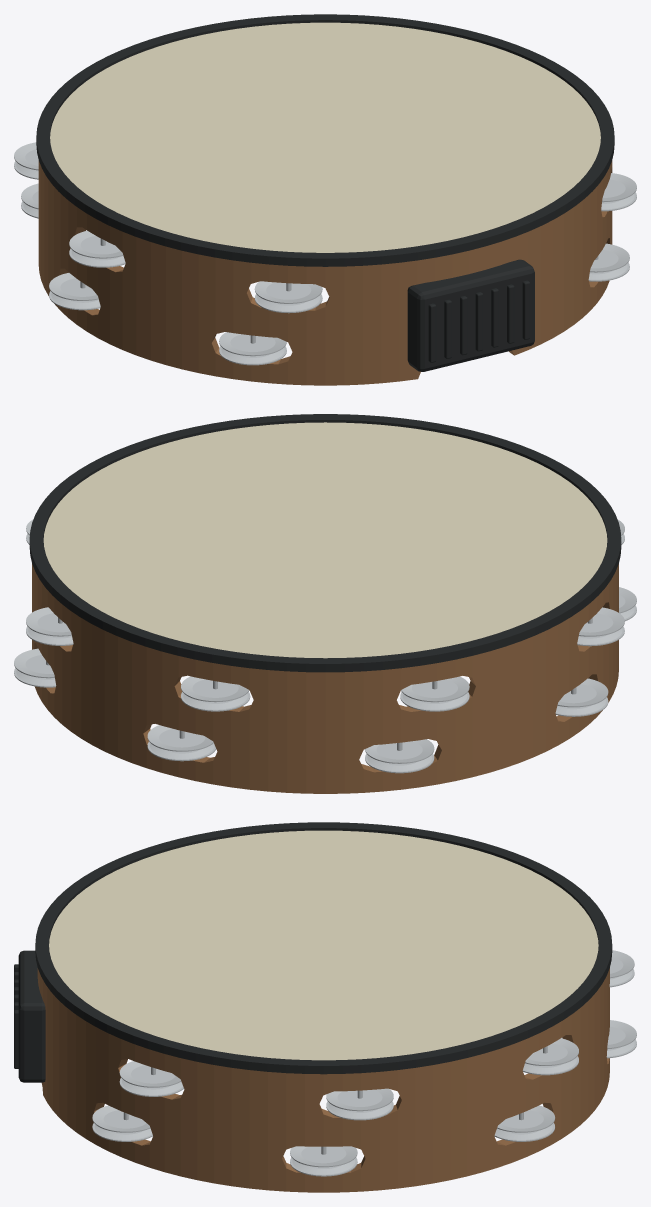
The model's file is full.glb.
3 renders of one model, top to bottom at view 1: azimuth 30°, elevation 25°; view 2: azimuth 150°, elevation 25°; view 3: azimuth 270°, elevation 25°, orthographic. The views are drawn at different scales.
Parts seen in each view (by area): view 1: Cream taut head, Wooden slotted circular frame, Narrow dark upper binding, Rounded grip pad, Jingle 1 7 1, Jingle 0 7 1, Jingle 1 6 1, Jingle 0 6 1, Jingle 0 1 1, Jingle 1 1 1, Jingle 0 7 -1, Jingle 1 7 -1 (+3 smaller); view 2: Cream taut head, Wooden slotted circular frame, Narrow dark upper binding, Jingle 0 5 1, Jingle 1 5 1, Jingle 1 4 1, Jingle 0 4 1, Jingle 0 6 1, Jingle 1 6 1, Jingle 1 3 1, Jingle 0 3 1, Jingle 0 5 -1 (+3 smaller); view 3: Cream taut head, Wooden slotted circular frame, Narrow dark upper binding, Rounded grip pad, Jingle 0 2 1, Jingle 1 2 1, Jingle 1 1 1, Jingle 0 1 1, Jingle 0 3 1, Jingle 1 3 1, Jingle 0 2 -1, Jingle 1 2 -1 (+6 smaller).
Part boxes in pixels (x1,y1,x2,y2): Cream taut head: [50, 22, 600, 252]; Wooden slotted circular frame: [38, 160, 612, 385]; Narrow dark upper binding: [36, 14, 614, 266]; Rounded grip pad: [407, 259, 534, 371]; Jingle 1 7 1: [254, 281, 322, 303]; Jingle 0 7 1: [219, 332, 286, 356]; Jingle 1 6 1: [69, 230, 123, 258]; Jingle 0 6 1: [49, 273, 98, 300]; Jingle 0 1 1: [590, 243, 629, 272]; Jingle 1 1 1: [602, 173, 636, 202]; Jingle 0 7 -1: [219, 346, 286, 365]; Jingle 1 7 -1: [254, 294, 322, 313]; Cream taut head: [43, 422, 607, 658]; Wooden slotted circular frame: [32, 564, 618, 793]; Narrow dark upper binding: [29, 414, 621, 672]; Jingle 0 5 1: [365, 739, 434, 763]; Jingle 1 5 1: [401, 676, 469, 702]; Jingle 1 4 1: [181, 676, 249, 702]; Jingle 0 4 1: [147, 725, 213, 751]; Jingle 0 6 1: [557, 678, 608, 707]; Jingle 1 6 1: [579, 607, 624, 636]; Jingle 1 3 1: [26, 607, 71, 636]; Jingle 0 3 1: [14, 648, 54, 678]; Jingle 0 5 -1: [365, 753, 434, 773]; Cream taut head: [49, 830, 598, 1060]; Wooden slotted circular frame: [37, 968, 609, 1192]; Narrow dark upper binding: [35, 822, 612, 1074]; Rounded grip pad: [18, 950, 45, 1082]; Jingle 0 2 1: [290, 1146, 357, 1167]; Jingle 1 2 1: [326, 1088, 393, 1111]; Jingle 1 1 1: [119, 1061, 181, 1087]; Jingle 0 1 1: [92, 1105, 150, 1132]; Jingle 0 3 1: [497, 1105, 555, 1132]; Jingle 1 3 1: [525, 1038, 578, 1065]; Jingle 0 2 -1: [290, 1157, 357, 1176]; Jingle 1 2 -1: [326, 1101, 393, 1120].
Bounding box in the file's own units: 0.278 × 0.0625 × 0.2765.
